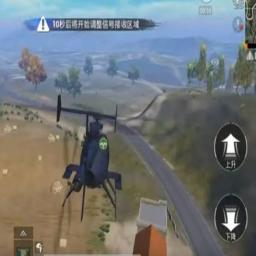helicopter: (56, 95, 125, 228)
